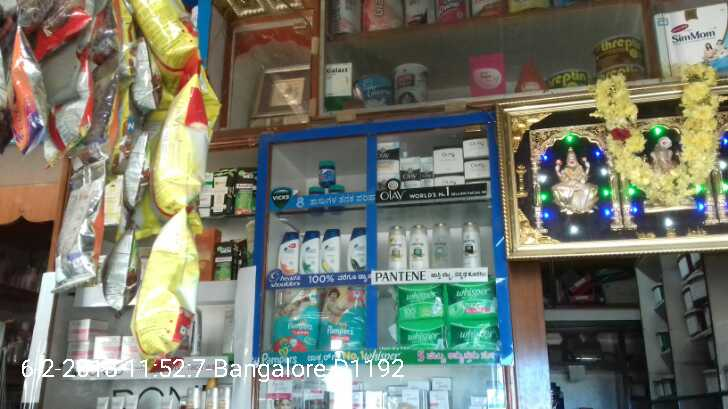beauty: (374, 137, 402, 184), (347, 222, 370, 273), (407, 225, 428, 270), (319, 227, 339, 273), (461, 217, 480, 265), (281, 229, 300, 277), (432, 146, 463, 175), (299, 231, 319, 270), (387, 224, 403, 268)
pharmacy: (318, 282, 370, 351), (271, 282, 320, 351), (439, 281, 495, 319), (444, 313, 498, 352), (394, 282, 444, 320), (391, 319, 439, 353), (314, 153, 335, 187)
